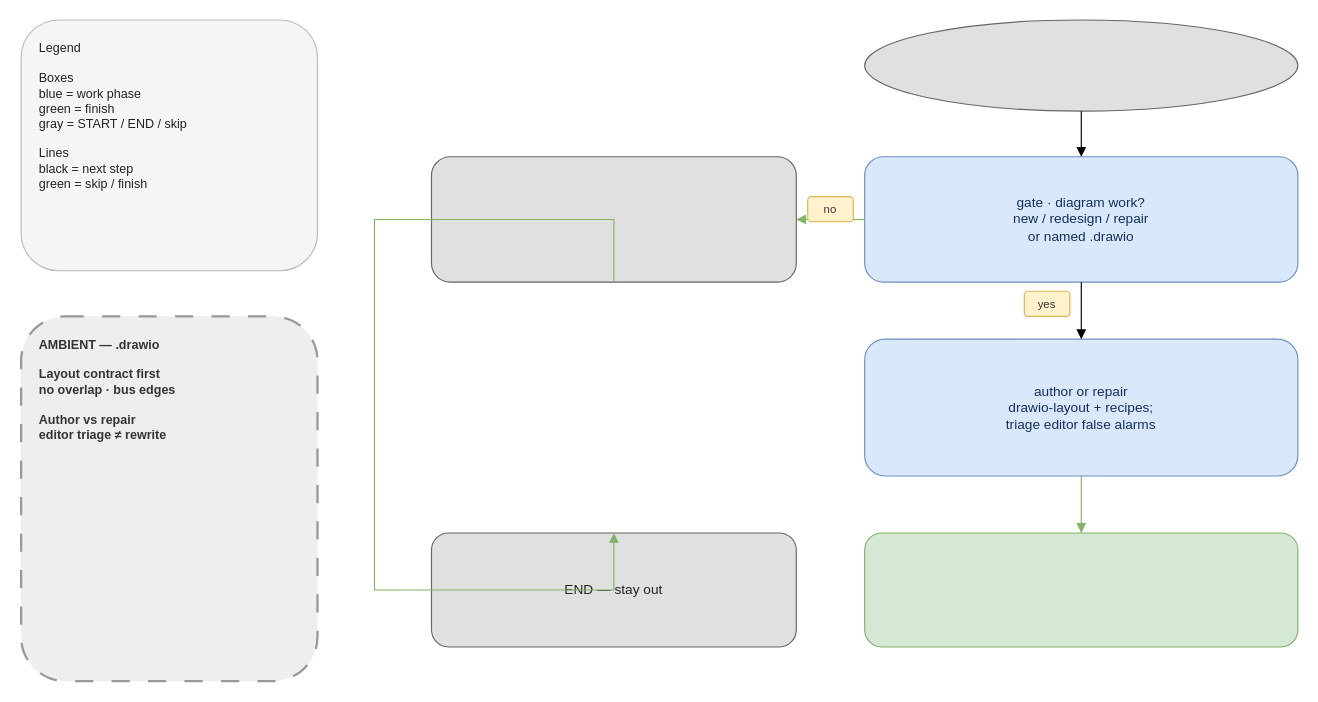
Some shapes in this 1318 by 702 pixel diagram are drawn without their labels. Each missing label, with the centre of its shape:
"END — readable graph AABB-verified edges" goes at (1081,589).
"skip — no diagram ordinary coding" goes at (613,219).
"START — user ask" goes at (1081,65).
